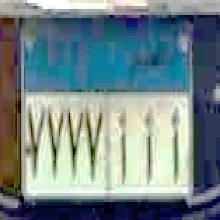7: (85, 101, 105, 183), (26, 103, 45, 176), (66, 106, 84, 180), (47, 104, 64, 177)
alif: (115, 110, 128, 188), (142, 111, 156, 179), (169, 111, 183, 177)
